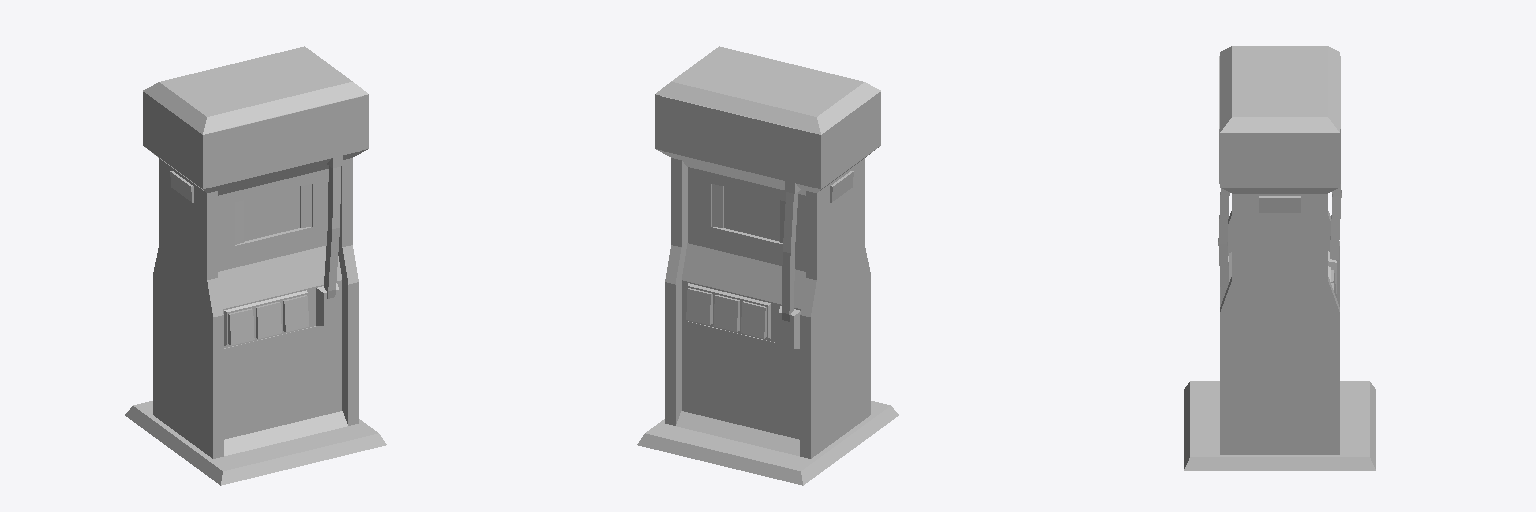
File: fuelpump.obj
The picture shows the model from 3 angles: view 1: azimuth 30°, elevation 25°; view 2: azimuth 150°, elevation 25°; view 3: azimuth 270°, elevation 25°; orthographic projection.
Visible parts, largest first — view 1: cube, sign_translucent, base, screen, button4, button6, button5; view 2: cube, sign_translucent, base, screen, button1, button2, button3; view 3: cube, base, screen.
Boxes of the visible parts, x1,y1,x2,y2 form: cube: [143, 46, 368, 458]; sign_translucent: [211, 96, 361, 435]; base: [125, 401, 386, 485]; screen: [170, 171, 299, 241]; button4: [228, 308, 254, 345]; button6: [283, 295, 308, 331]; button5: [256, 302, 281, 338]; cube: [655, 46, 880, 458]; sign_translucent: [662, 96, 812, 435]; base: [637, 401, 898, 485]; screen: [724, 171, 853, 241]; button1: [686, 288, 712, 324]; button2: [713, 295, 739, 331]; button3: [741, 301, 766, 338]; cube: [1218, 46, 1341, 454]; base: [1184, 381, 1375, 470]; screen: [1259, 196, 1300, 212].
Bounding box in the file's own units: 1 × 2 × 1.